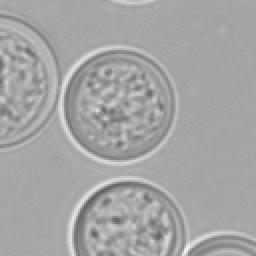picoshell: (56, 46, 178, 164), (66, 176, 188, 254), (0, 16, 58, 150), (182, 230, 254, 254), (110, 0, 156, 4)
